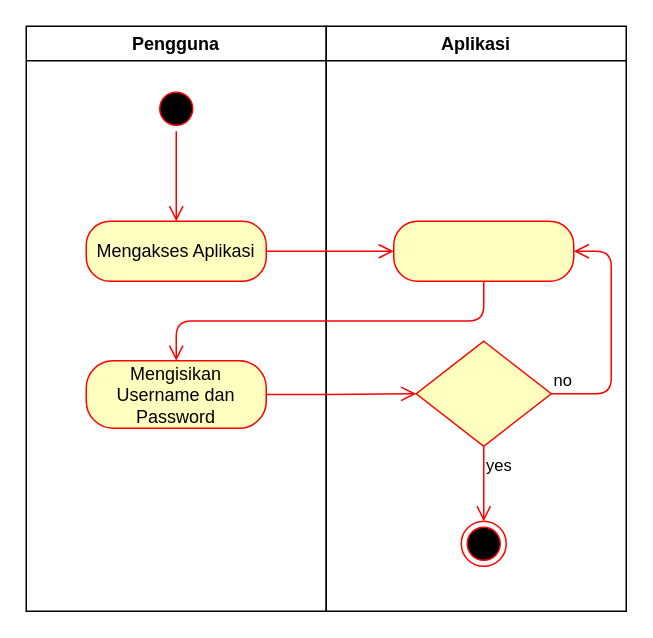
Some shapes in this 653 by 638 pixel diagram are drawn without their labels. The centre of each missing label's shape, as x and y in pixels:
"Login berhasil ?" belongs at (x=483, y=393).
"Menampilkan Form Login" belongs at (x=483, y=250).
